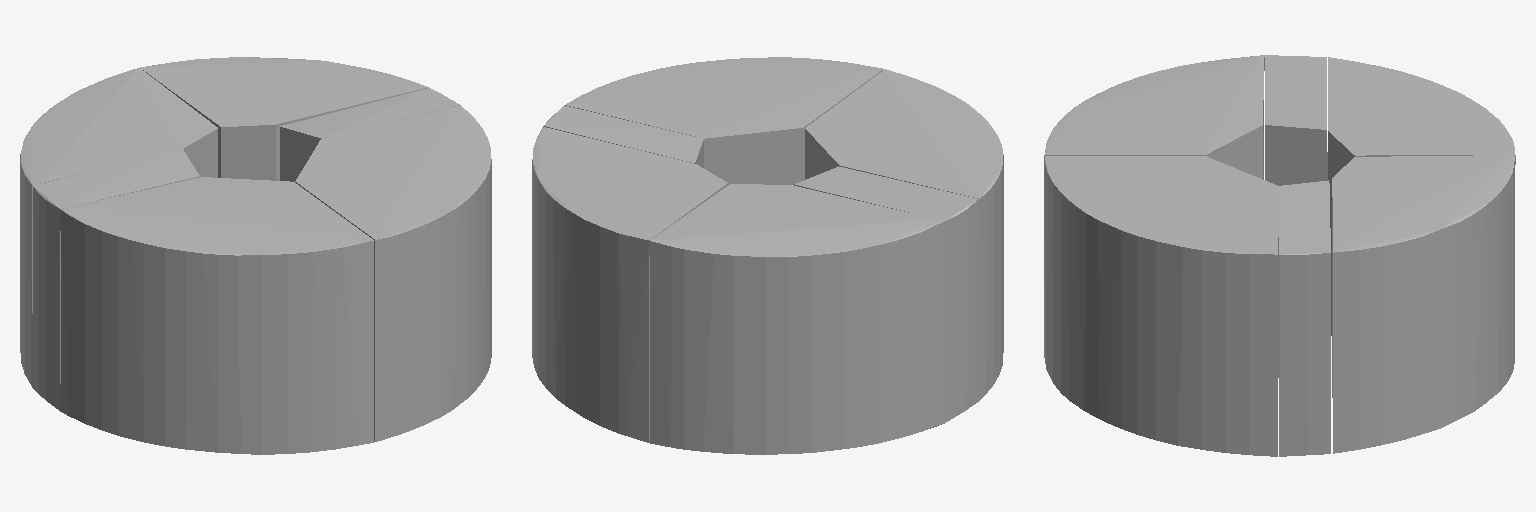
URDF robot description (root):
<robot name="root">
  <link name="link_sundisk_convex_piece_0">
    <inertial>
      <origin xyz="0 0 0" rpy="0 0 0"/>
      <mass value="5.18E-02"/>
      <inertia ixx="5.62E-05" ixy="-2.76E-05" ixz="4.32E-08" iyy="4.02E-05" iyz="3.66E-08" izz="7.66E-05"/>
    </inertial>
    <visual>
      <origin xyz="0 0 0" rpy="0 0 0"/>
      <geometry>
        <mesh filename="sundisk_convex_piece_0.obj" scale="1.0000E+00 1.0000E+00 1.0000E+00"/>
      </geometry>
      <material name="">
        <color rgba="7.50E-01 7.50E-01 7.50E-01 1"/>
      </material>
    </visual>
    <collision>
      <origin xyz="0 0 0" rpy="0 0 0"/>
      <geometry>
        <mesh filename="sundisk_convex_piece_0.obj" scale="1.0000E+00 1.0000E+00 1.0000E+00"/>
      </geometry>
    </collision>
  </link>
  <link name="link_sundisk_convex_piece_1">
    <inertial>
      <origin xyz="0 0 0" rpy="0 0 0"/>
      <mass value="1.47E-02"/>
      <inertia ixx="3.40E-06" ixy="-2.54E-06" ixz="1.41E-08" iyy="1.98E-05" iyz="2.91E-09" izz="1.76E-05"/>
    </inertial>
    <visual>
      <origin xyz="0 0 0" rpy="0 0 0"/>
      <geometry>
        <mesh filename="sundisk_convex_piece_1.obj" scale="1.0000E+00 1.0000E+00 1.0000E+00"/>
      </geometry>
      <material name="">
        <color rgba="7.50E-01 7.50E-01 7.50E-01 1"/>
      </material>
    </visual>
    <collision>
      <origin xyz="0 0 0" rpy="0 0 0"/>
      <geometry>
        <mesh filename="sundisk_convex_piece_1.obj" scale="1.0000E+00 1.0000E+00 1.0000E+00"/>
      </geometry>
    </collision>
  </link>
  <joint name="link_sundisk_convex_piece_1_joint" type="fixed">
    <origin xyz="0 0 0" rpy="0 0 0"/>
    <parent link="link_sundisk_convex_piece_0"/>
    <child link="link_sundisk_convex_piece_1"/>
  </joint>
  <link name="link_sundisk_convex_piece_2">
    <inertial>
      <origin xyz="0 0 0" rpy="0 0 0"/>
      <mass value="5.41E-02"/>
      <inertia ixx="5.77E-05" ixy="2.80E-05" ixz="-2.57E-08" iyy="4.23E-05" iyz="2.24E-08" izz="7.92E-05"/>
    </inertial>
    <visual>
      <origin xyz="0 0 0" rpy="0 0 0"/>
      <geometry>
        <mesh filename="sundisk_convex_piece_2.obj" scale="1.0000E+00 1.0000E+00 1.0000E+00"/>
      </geometry>
      <material name="">
        <color rgba="7.50E-01 7.50E-01 7.50E-01 1"/>
      </material>
    </visual>
    <collision>
      <origin xyz="0 0 0" rpy="0 0 0"/>
      <geometry>
        <mesh filename="sundisk_convex_piece_2.obj" scale="1.0000E+00 1.0000E+00 1.0000E+00"/>
      </geometry>
    </collision>
  </link>
  <joint name="link_sundisk_convex_piece_2_joint" type="fixed">
    <origin xyz="0 0 0" rpy="0 0 0"/>
    <parent link="link_sundisk_convex_piece_1"/>
    <child link="link_sundisk_convex_piece_2"/>
  </joint>
  <link name="link_sundisk_convex_piece_3">
    <inertial>
      <origin xyz="0 0 0" rpy="0 0 0"/>
      <mass value="1.80E-02"/>
      <inertia ixx="3.99E-06" ixy="2.03E-06" ixz="-3.21E-10" iyy="2.44E-05" iyz="-5.48E-10" izz="2.14E-05"/>
    </inertial>
    <visual>
      <origin xyz="0 0 0" rpy="0 0 0"/>
      <geometry>
        <mesh filename="sundisk_convex_piece_3.obj" scale="1.0000E+00 1.0000E+00 1.0000E+00"/>
      </geometry>
      <material name="">
        <color rgba="7.50E-01 7.50E-01 7.50E-01 1"/>
      </material>
    </visual>
    <collision>
      <origin xyz="0 0 0" rpy="0 0 0"/>
      <geometry>
        <mesh filename="sundisk_convex_piece_3.obj" scale="1.0000E+00 1.0000E+00 1.0000E+00"/>
      </geometry>
    </collision>
  </link>
  <joint name="link_sundisk_convex_piece_3_joint" type="fixed">
    <origin xyz="0 0 0" rpy="0 0 0"/>
    <parent link="link_sundisk_convex_piece_2"/>
    <child link="link_sundisk_convex_piece_3"/>
  </joint>
  <link name="link_sundisk_convex_piece_4">
    <inertial>
      <origin xyz="0 0 0" rpy="0 0 0"/>
      <mass value="6.87E-02"/>
      <inertia ixx="6.05E-05" ixy="3.05E-05" ixz="5.82E-08" iyy="6.06E-05" iyz="-6.48E-08" izz="9.46E-05"/>
    </inertial>
    <visual>
      <origin xyz="0 0 0" rpy="0 0 0"/>
      <geometry>
        <mesh filename="sundisk_convex_piece_4.obj" scale="1.0000E+00 1.0000E+00 1.0000E+00"/>
      </geometry>
      <material name="">
        <color rgba="7.50E-01 7.50E-01 7.50E-01 1"/>
      </material>
    </visual>
    <collision>
      <origin xyz="0 0 0" rpy="0 0 0"/>
      <geometry>
        <mesh filename="sundisk_convex_piece_4.obj" scale="1.0000E+00 1.0000E+00 1.0000E+00"/>
      </geometry>
    </collision>
  </link>
  <joint name="link_sundisk_convex_piece_4_joint" type="fixed">
    <origin xyz="0 0 0" rpy="0 0 0"/>
    <parent link="link_sundisk_convex_piece_3"/>
    <child link="link_sundisk_convex_piece_4"/>
  </joint>
  <link name="link_sundisk_convex_piece_5">
    <inertial>
      <origin xyz="0 0 0" rpy="0 0 0"/>
      <mass value="6.45E-02"/>
      <inertia ixx="6.05E-05" ixy="-3.02E-05" ixz="-2.95E-08" iyy="5.49E-05" iyz="-6.41E-08" izz="9.05E-05"/>
    </inertial>
    <visual>
      <origin xyz="0 0 0" rpy="0 0 0"/>
      <geometry>
        <mesh filename="sundisk_convex_piece_5.obj" scale="1.0000E+00 1.0000E+00 1.0000E+00"/>
      </geometry>
      <material name="">
        <color rgba="7.50E-01 7.50E-01 7.50E-01 1"/>
      </material>
    </visual>
    <collision>
      <origin xyz="0 0 0" rpy="0 0 0"/>
      <geometry>
        <mesh filename="sundisk_convex_piece_5.obj" scale="1.0000E+00 1.0000E+00 1.0000E+00"/>
      </geometry>
    </collision>
  </link>
  <joint name="link_sundisk_convex_piece_5_joint" type="fixed">
    <origin xyz="0 0 0" rpy="0 0 0"/>
    <parent link="link_sundisk_convex_piece_4"/>
    <child link="link_sundisk_convex_piece_5"/>
  </joint>
</robot>

--- What the picture shows (computed from the rendered views, not written in the file) ---
3 views of the same robot in one strip: view 1: azimuth 30°, elevation 25°; view 2: azimuth 150°, elevation 25°; view 3: azimuth 270°, elevation 25° (orthographic).
Model root with 6 links and 5 joints (5 fixed), rooted at link_sundisk_convex_piece_0, posed every joint at zero.
Visible links, largest first — view 1: link_sundisk_convex_piece_5, link_sundisk_convex_piece_4, link_sundisk_convex_piece_2, link_sundisk_convex_piece_0, link_sundisk_convex_piece_3, link_sundisk_convex_piece_1; view 2: link_sundisk_convex_piece_2, link_sundisk_convex_piece_0, link_sundisk_convex_piece_5, link_sundisk_convex_piece_4, link_sundisk_convex_piece_3, link_sundisk_convex_piece_1; view 3: link_sundisk_convex_piece_4, link_sundisk_convex_piece_0, link_sundisk_convex_piece_5, link_sundisk_convex_piece_2, link_sundisk_convex_piece_1, link_sundisk_convex_piece_3.
Boxes of the visible links, box(x1,y1,x2,y2) form: link_sundisk_convex_piece_5: box(60, 177, 373, 454); link_sundisk_convex_piece_4: box(295, 105, 491, 441); link_sundisk_convex_piece_2: box(20, 68, 217, 387); link_sundisk_convex_piece_0: box(140, 57, 428, 180); link_sundisk_convex_piece_3: box(33, 149, 199, 411); link_sundisk_convex_piece_1: box(280, 88, 459, 181); link_sundisk_convex_piece_2: box(649, 184, 943, 454); link_sundisk_convex_piece_0: box(532, 127, 727, 442); link_sundisk_convex_piece_5: box(805, 69, 1003, 400); link_sundisk_convex_piece_4: box(565, 57, 883, 184); link_sundisk_convex_piece_3: box(794, 166, 978, 423); link_sundisk_convex_piece_1: box(543, 105, 703, 167); link_sundisk_convex_piece_4: box(1044, 156, 1278, 456); link_sundisk_convex_piece_0: box(1332, 155, 1515, 453); link_sundisk_convex_piece_5: box(1044, 55, 1264, 357); link_sundisk_convex_piece_2: box(1327, 57, 1515, 335); link_sundisk_convex_piece_1: box(1279, 180, 1330, 456); link_sundisk_convex_piece_3: box(1265, 55, 1326, 185).
Bounding box of the posed robot: 0.1016 × 0.1016 × 0.0483 m (x, y, z).
6 mesh visuals loaded from 6 distinct referenced files (6 OBJ).
